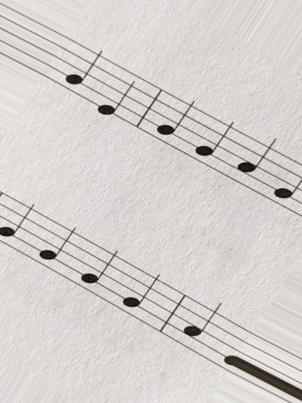note: (77, 234, 121, 312), (95, 56, 137, 137), (180, 295, 224, 371), (63, 33, 105, 112), (119, 259, 162, 335), (154, 89, 200, 160), (194, 107, 236, 181), (36, 211, 77, 285), (1, 193, 37, 266), (236, 128, 269, 198), (272, 145, 301, 220)
